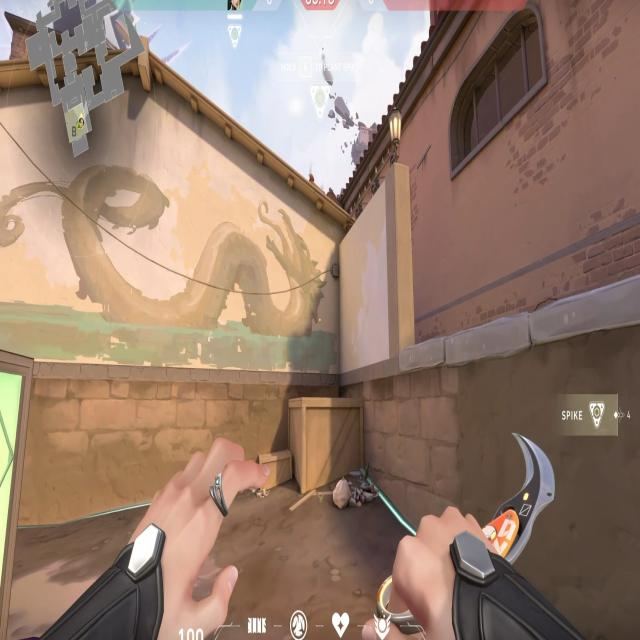Throwables: (438, 1, 557, 186)
